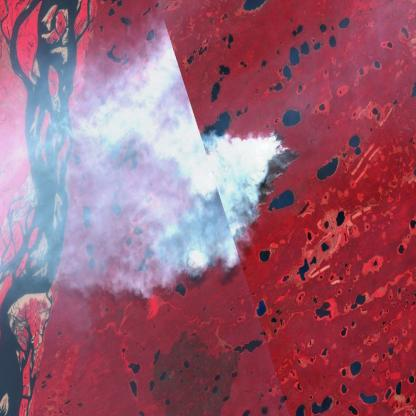fire: (148, 128, 302, 275)
